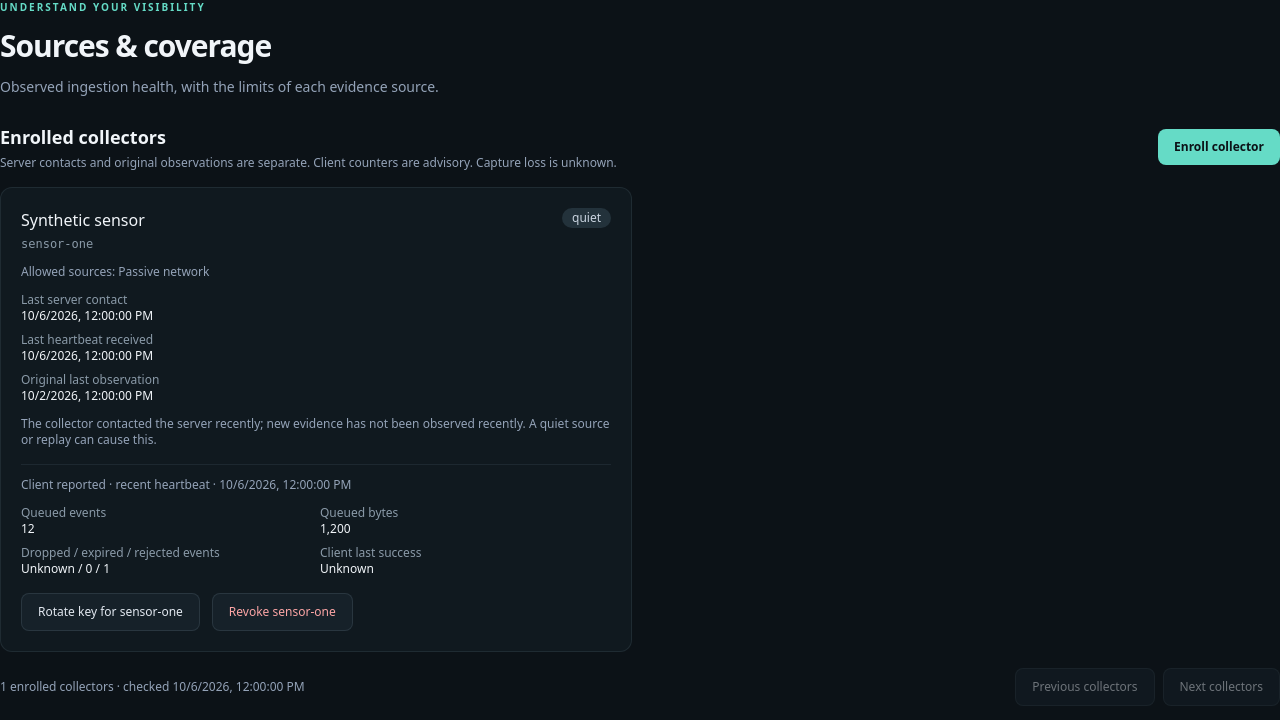
Test: collector operations › rotates with explicit overlap and revokes only after confirmation
Click the button "Rotate key for sensor-one" at (110, 612), box [21,593,200,631]
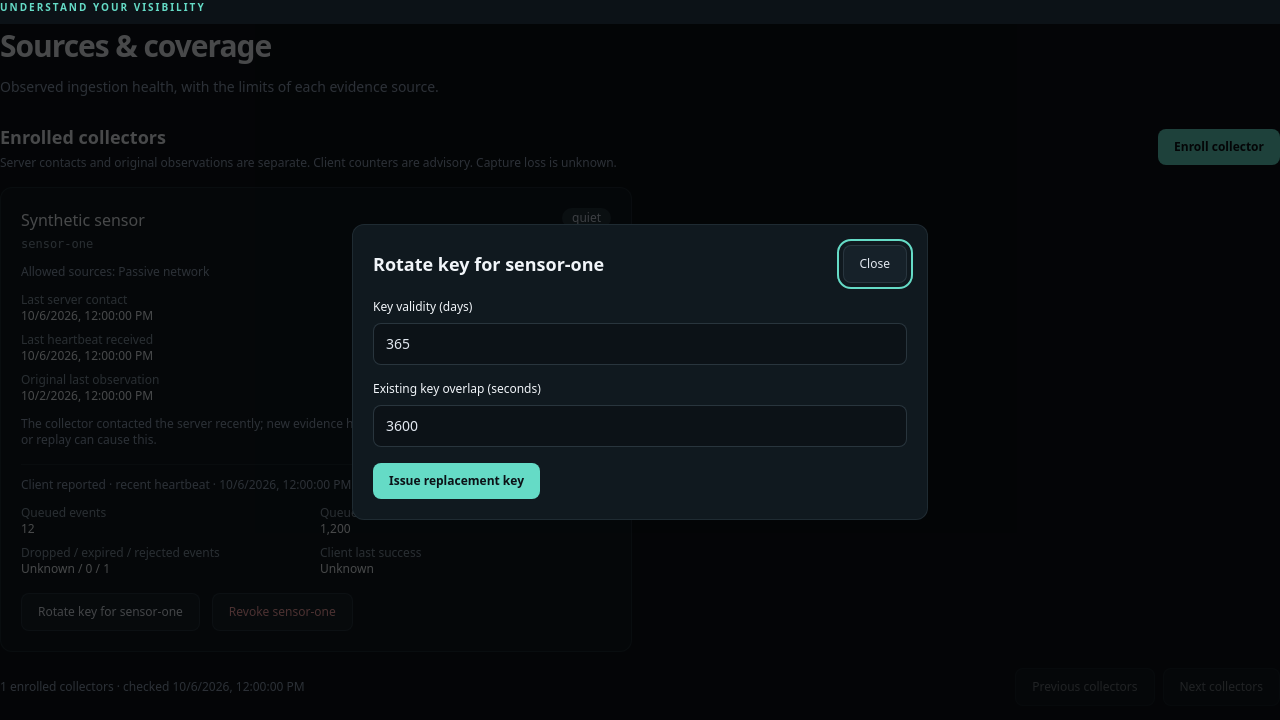
Replace the text in the number field labelled "Existing key overlap (seconds)" with "30" at (640, 426), box [373,405,907,447]
Replace the text in the number field labelled "Key validity (days)" with "7" at (640, 344), box [373,323,907,365]
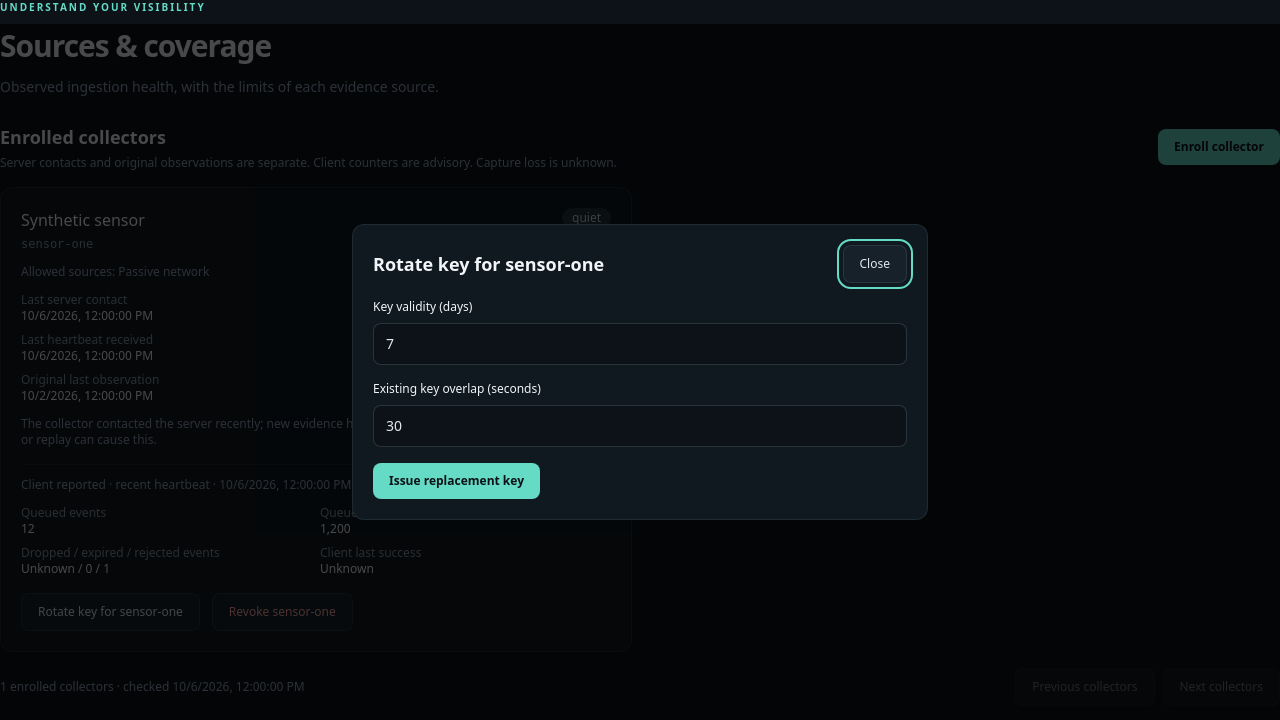
Click the button "Issue replacement key" at (456, 481), box [373,463,540,499]
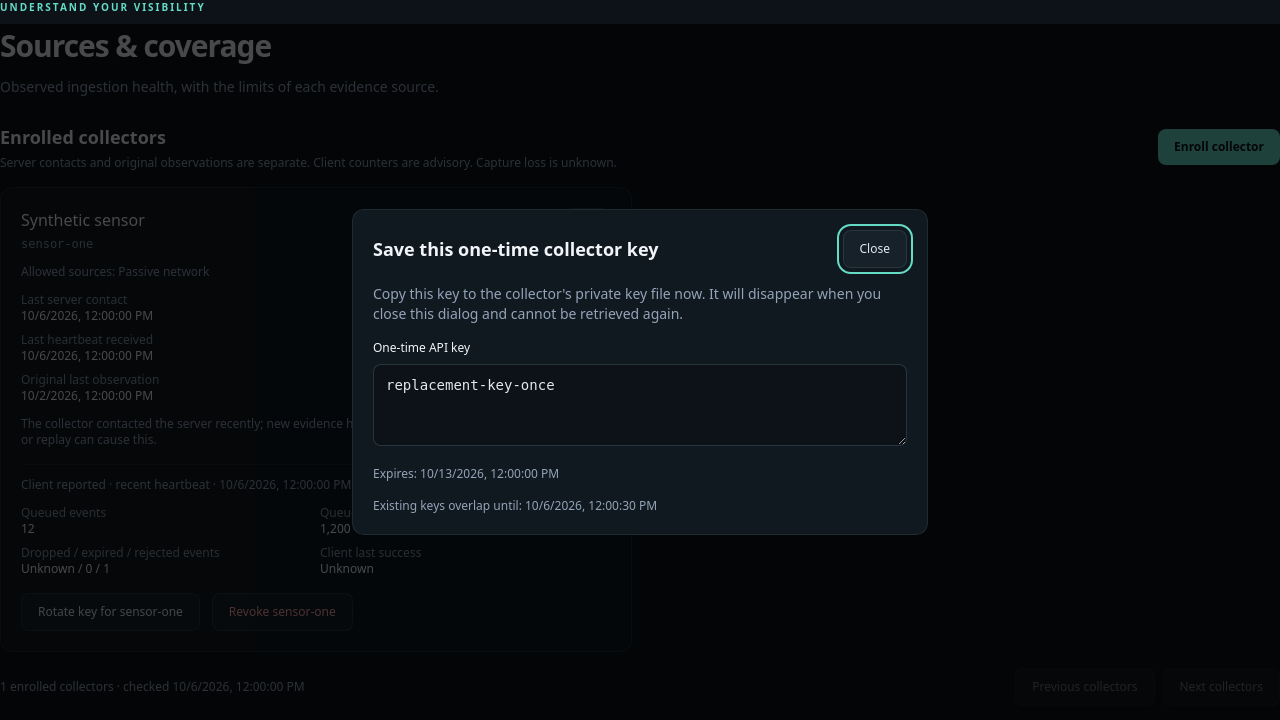
Check: the text box labelled "One-time API key" holds "replacement-key-once", box [373,364,907,446]
Click the button with aria-label "Close credential dialog" at (875, 249), box [842,230,907,268]
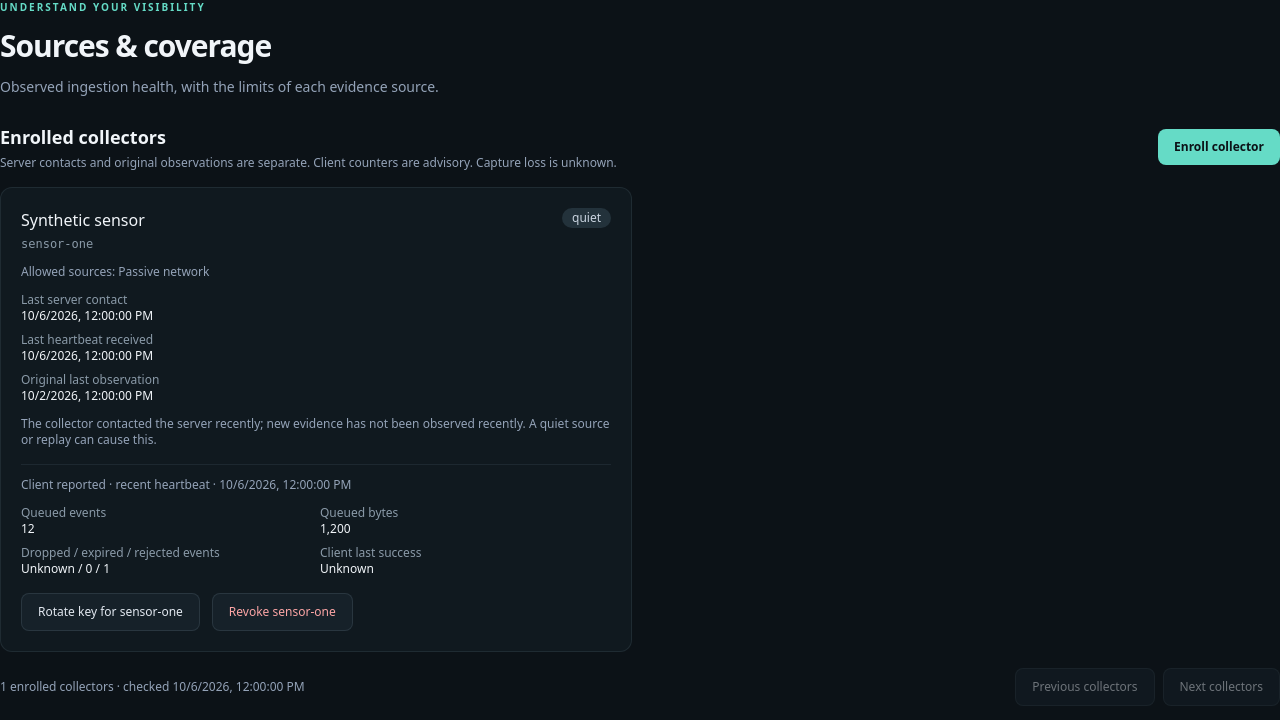
Click the button "Revoke sensor-one" at (282, 612), box [212,593,353,631]
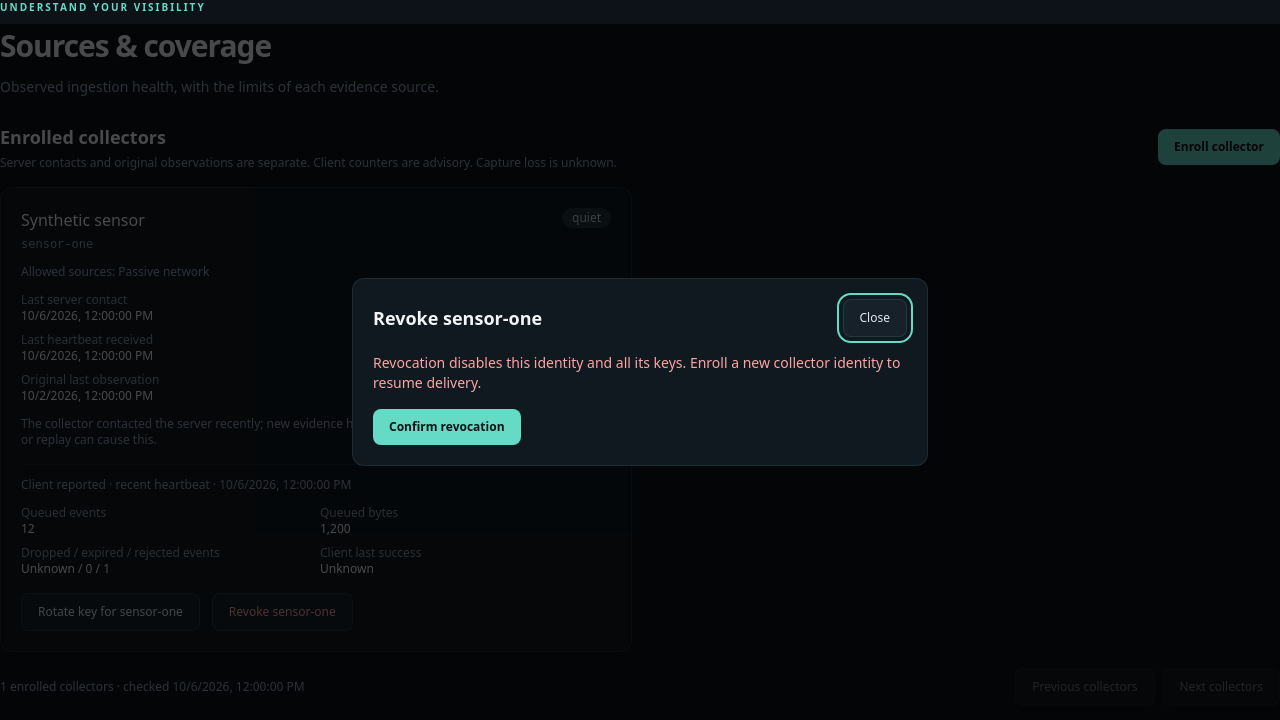
Click the button "Confirm revocation" at (447, 427), box [373,409,520,445]
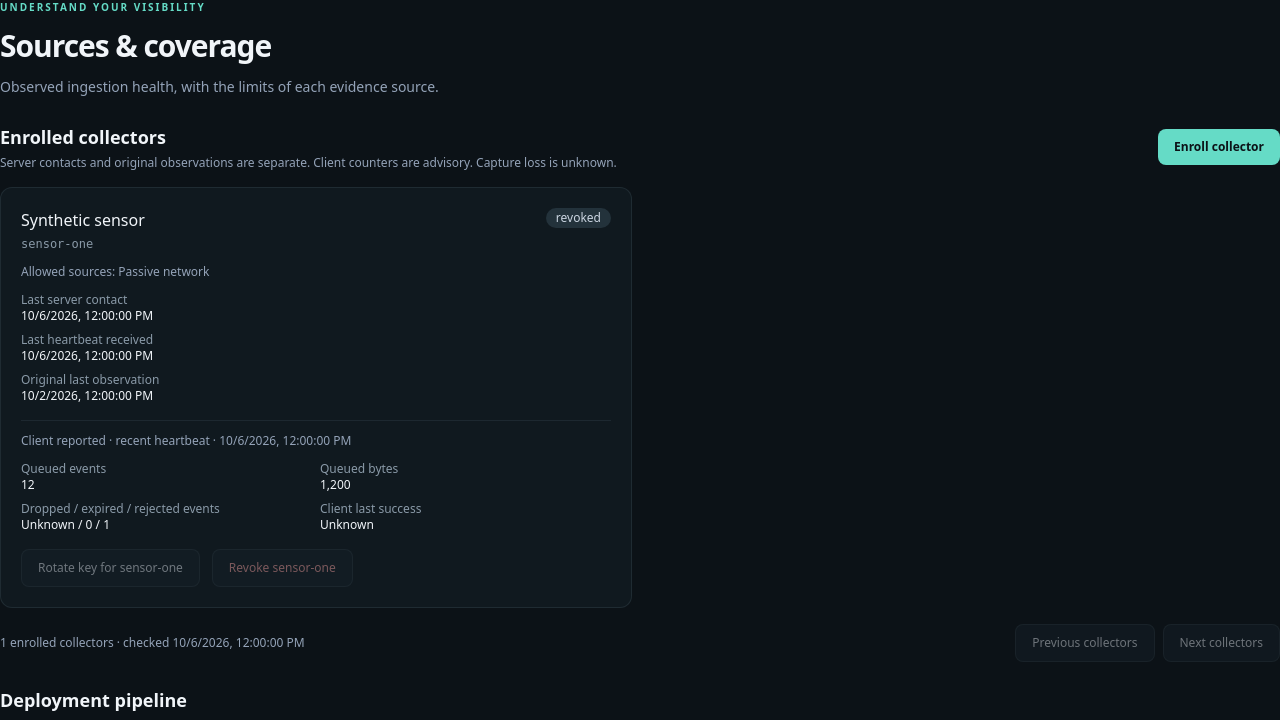
Check: the text "revoked" is shown, box [546,208,611,228]
Check: the button "Rotate key for sensor-one" is disabled, box [21,549,200,587]
